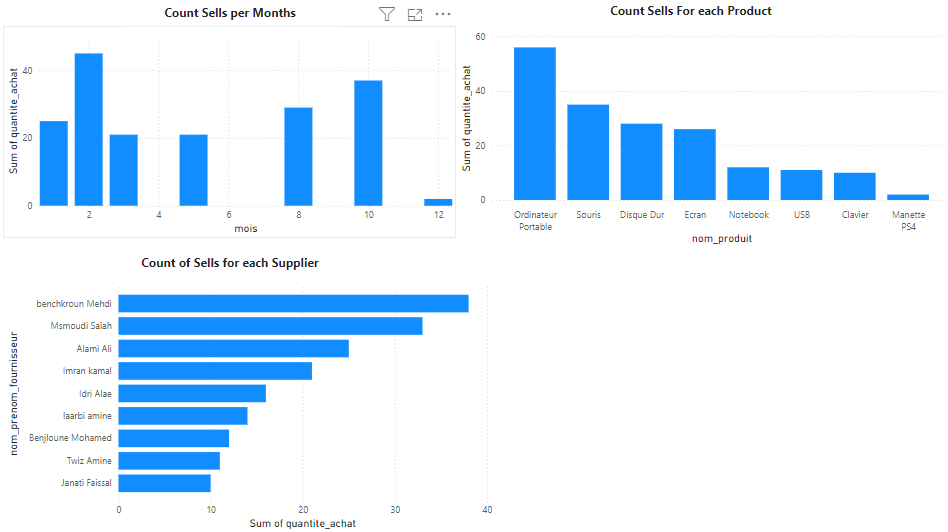

The page's visual inventory and layout, read from the dashboard file:
{"tool":"powerbi","page":{"name":"Page 2","canvas":[1280,720],"ordinal":1},"visuals":[{"type":"columnChart","fields":{"Category":["bi_data_warehouse dim_temps.mois"],"Y":["Sum(bi_data_warehouse dim_produit.quantite_achat)"]},"box":[10.7,44,604,282.7],"z":0},{"type":"columnChart","fields":{"Category":["bi_data_warehouse dim_produit.nom_produit"],"Y":["Sum(bi_data_warehouse dim_produit.quantite_achat)"]},"box":[614.7,44,665.3,296],"z":1000},{"type":"barChart","fields":{"Category":["bi_data_warehouse dim_fournisseur.nom_prenom_fournisseur"],"Y":["Sum(bi_data_warehouse dim_produit.quantite_achat)"]},"box":[10.7,377.3,657.3,342.7],"z":2000},{"type":"textbox","box":[129.3,342.7,368,33.3],"z":2001},{"type":"textbox","box":[168,9.3,290.7,34.7],"z":2002},{"type":"textbox","box":[752,6.7,352,38.7],"z":2003}]}

Visuals, with their boxes in screenshot pixels (x1, y1, x2, y2), scaled from the page's 1280x720 canvas onto the 948x532 screenshot:
columnChart - bi_data_warehouse dim_temps.mois x Sum(bi_data_warehouse dim_produit.quantite_achat): 8 33 455 241
columnChart - bi_data_warehouse dim_produit.nom_produit x Sum(bi_data_warehouse dim_produit.quantite_achat): 455 33 947 251
barChart - bi_data_warehouse dim_fournisseur.nom_prenom_fournisseur x Sum(bi_data_warehouse dim_produit.quantite_achat): 8 279 495 531
textbox: 96 253 368 278
textbox: 124 7 340 33
textbox: 557 5 818 34
